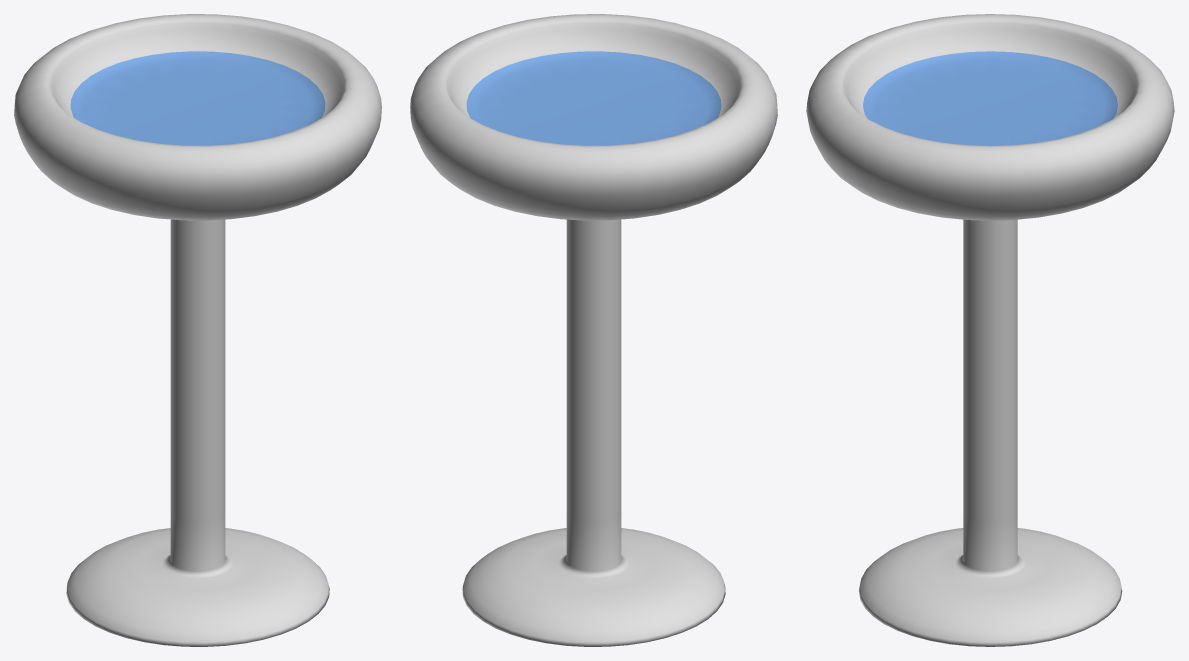
File: birdbath.fbx
3 renders of one model, left to right at view 1: azimuth 30°, elevation 25°; view 2: azimuth 150°, elevation 25°; view 3: azimuth 270°, elevation 25°, orthographic.
Visible parts, largest first — view 1: pCylinder1; view 2: pCylinder1; view 3: pCylinder1.
Part boxes in pixels (x1,y1,x2,y2): pCylinder1: [14, 14, 381, 646]; pCylinder1: [410, 14, 777, 646]; pCylinder1: [806, 14, 1174, 646].
Size of the model in its own units: 3.34 by 5.11 by 3.34.
